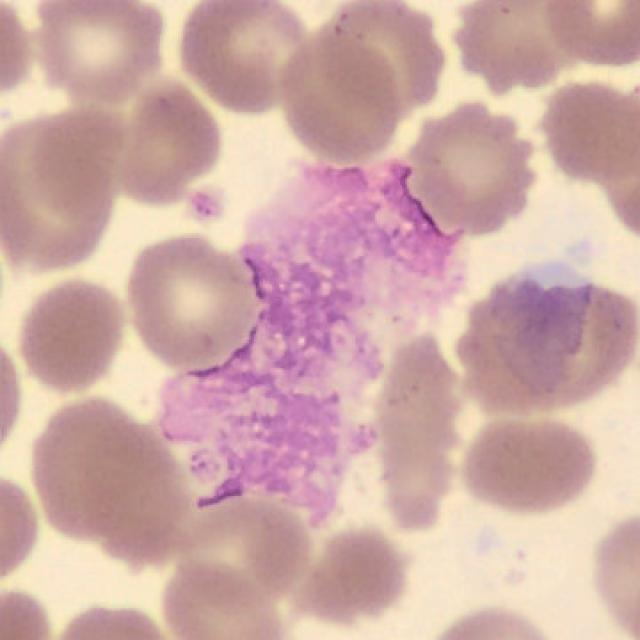Artefato: (158, 162, 466, 530)
